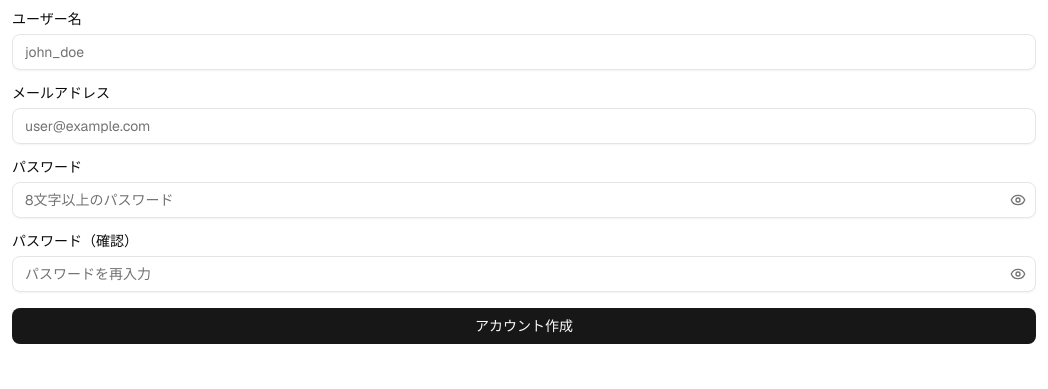
Test: SignupForm › ユーザー名のバリデーション › ユーザー名が空の場合、エラーが表示される
The image size is (1048, 389).
Step 1. Type "test@example.com" into the field labelled "メールアドレス" → (524, 126), box left=12, top=108, right=1036, bottom=144
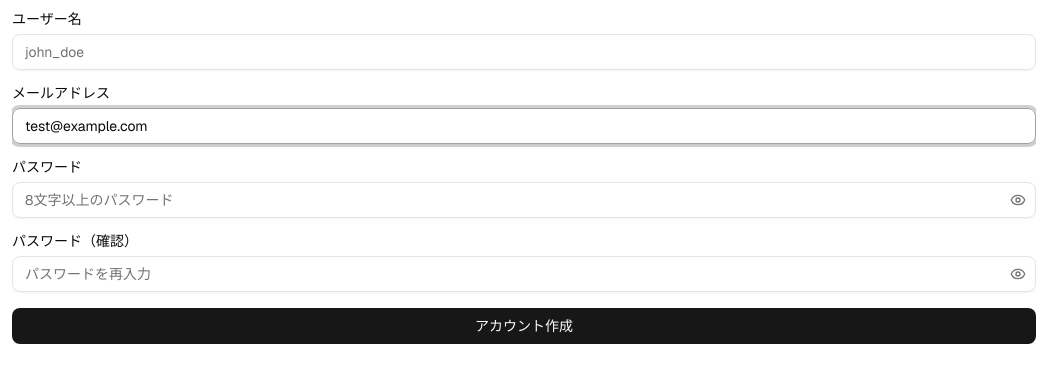
Step 2. Type "password123" into the password field labelled "パスワード" → (524, 200), box left=12, top=182, right=1036, bottom=218
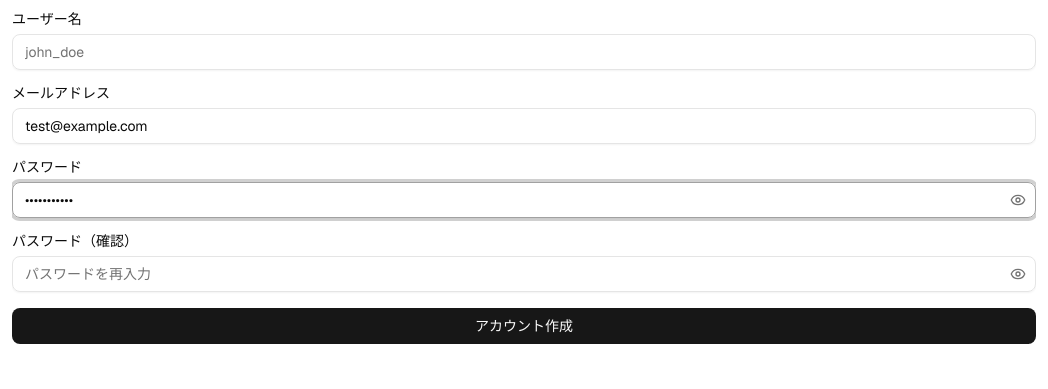
Step 3. Type "password123" into the password field labelled "パスワード（確認）" → (524, 274), box left=12, top=256, right=1036, bottom=292
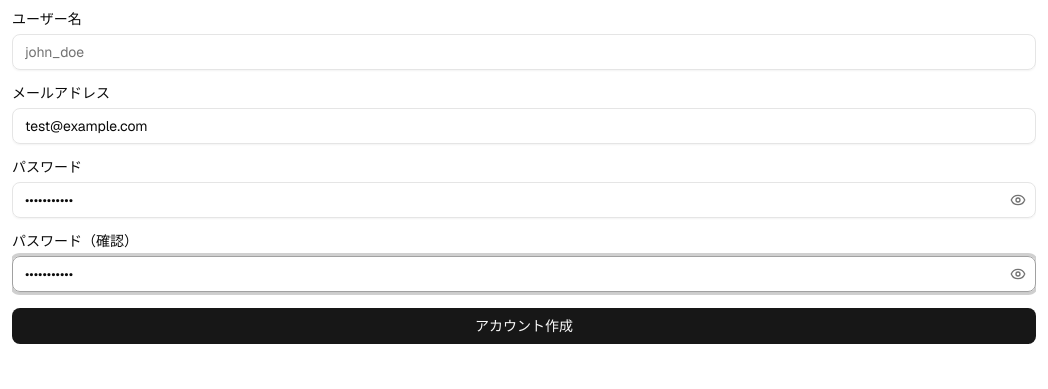
Step 4. Click the button "アカウント作成" → (524, 326), box left=12, top=308, right=1036, bottom=344
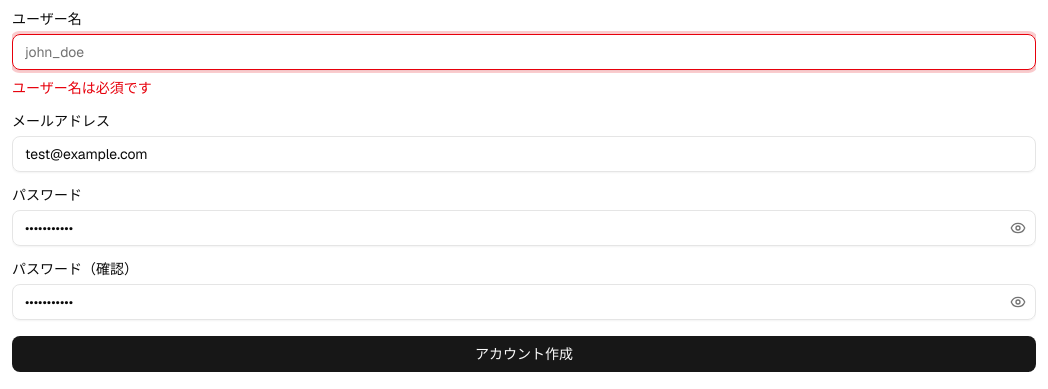
expect the text "ユーザー名は必須です" is shown: met, box left=12, top=79, right=152, bottom=97
